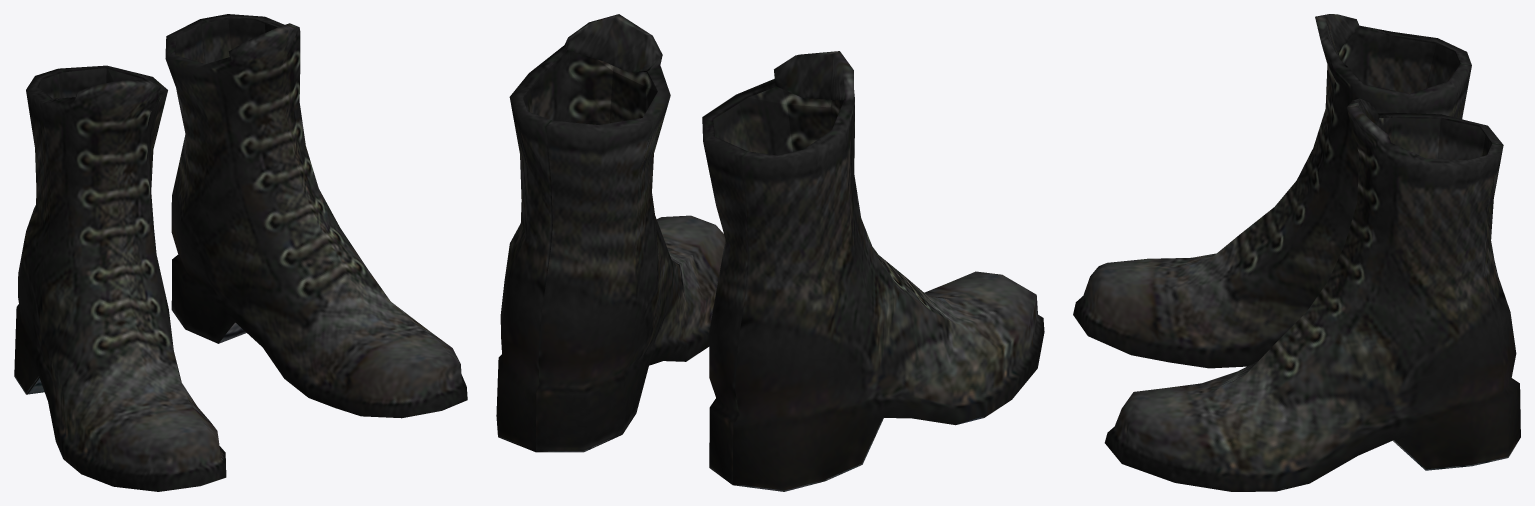
File: Boots.FBX
3 views of the same model, side by side, from view 1: azimuth 30°, elevation 25°; view 2: azimuth 150°, elevation 25°; view 3: azimuth 270°, elevation 25° (orthographic). The views are drawn at different scales.
Visible parts, largest first — view 1: Left boot, Right boot; view 2: Right boot, Left boot; view 3: Left boot, Right boot.
Part boxes in pixels (left/top/right/bottom): Left boot: left=165, top=14, right=467, bottom=418; Right boot: left=14, top=65, right=226, bottom=491; Right boot: left=702, top=51, right=1044, bottom=491; Left boot: left=496, top=14, right=725, bottom=452; Left boot: left=1104, top=98, right=1520, bottom=491; Right boot: left=1073, top=14, right=1471, bottom=368.
Bounding box in the file's own units: 33.75 × 28.13 × 33.68.
1 material, 1 textured.
